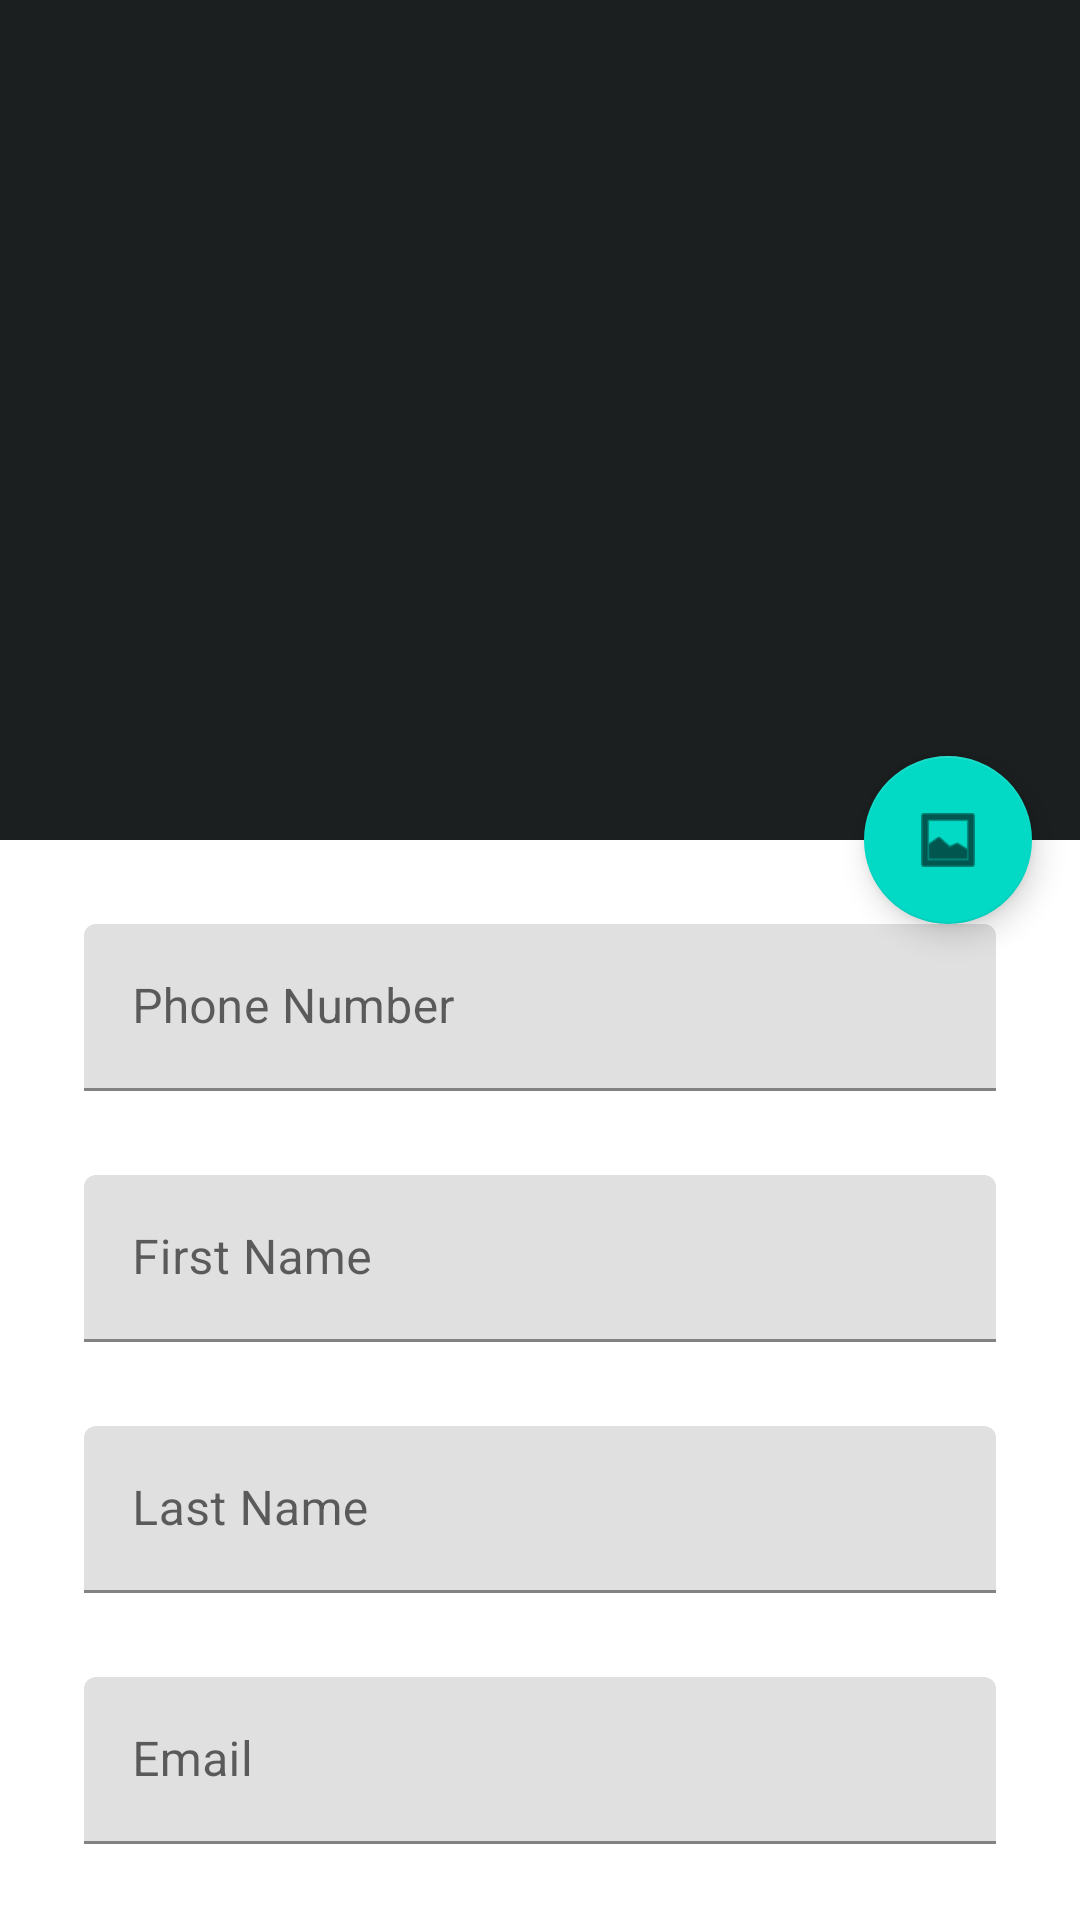

Where to tap for icons on this 1080*1920 app screen, as (x=x, y=y):
gallery: (x=948, y=840)
